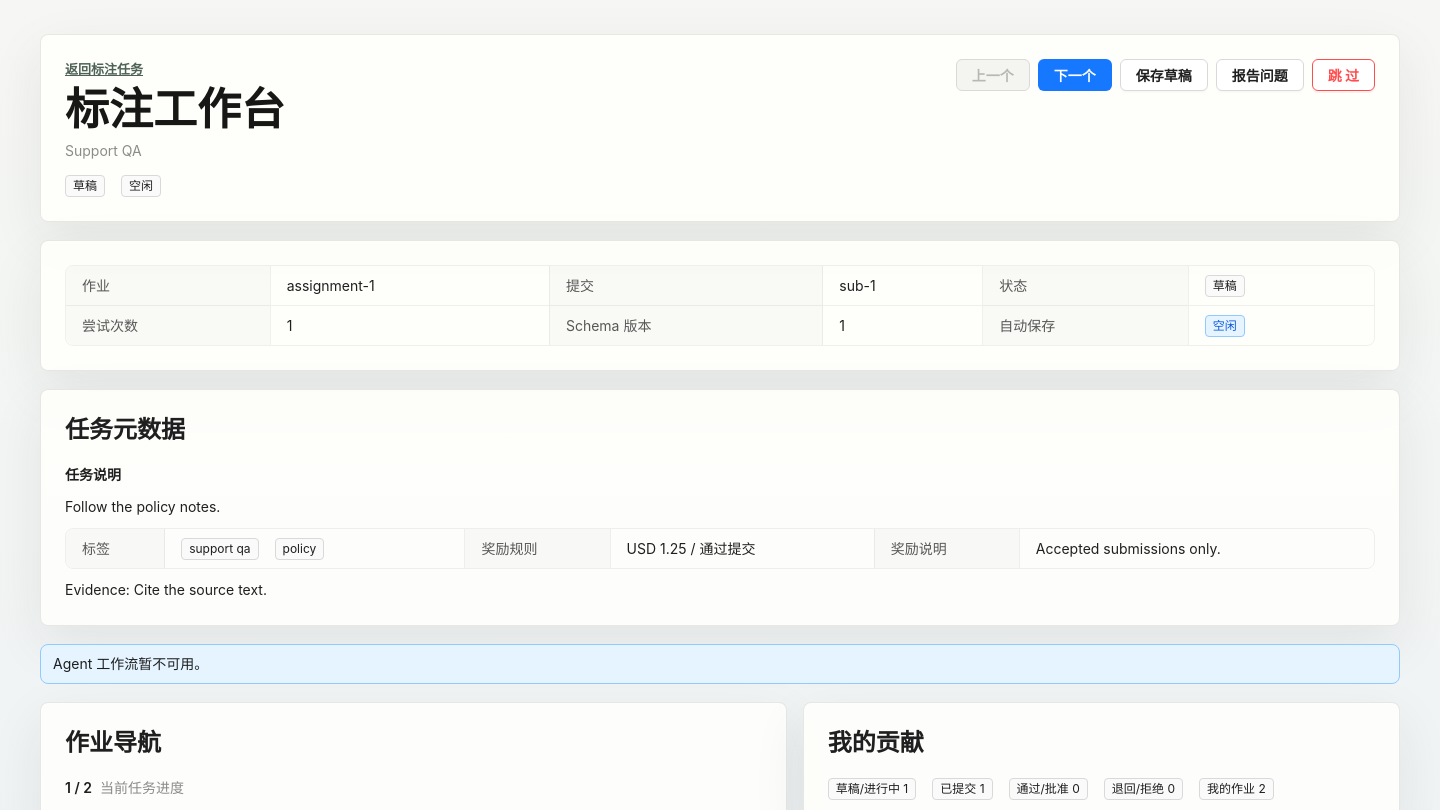
labeler workspace › reports a problem from the modal without submitting the annotation
Step 1. Click the button "报告问题" → (1260, 75), box 1216,59 -> 1304,91
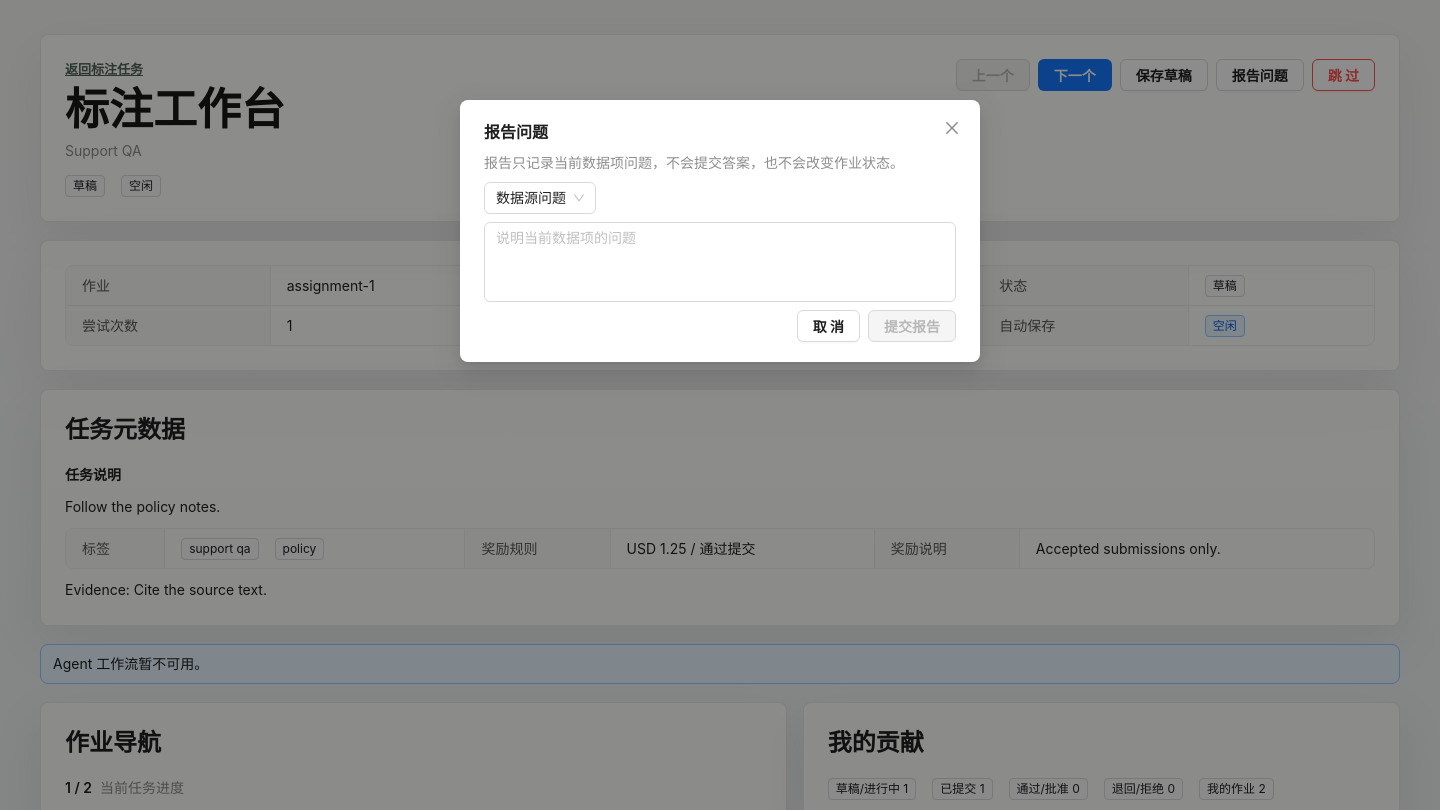
Step 2. Type "The source text is truncated." into the text box named "问题说明" → (720, 262), box 484,222 -> 956,302
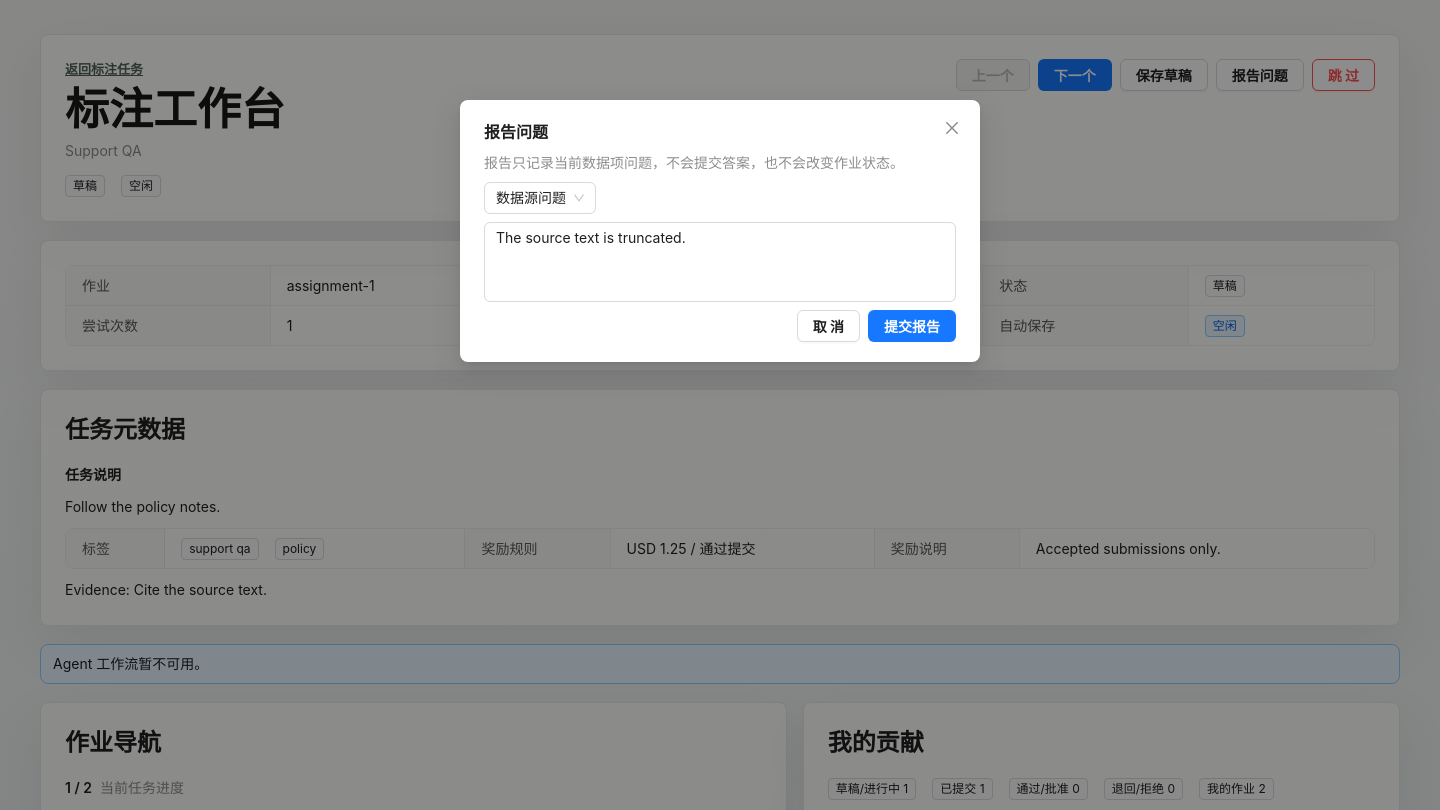
Step 3. Click the button "提交报告" → (912, 326), box 868,310 -> 956,342
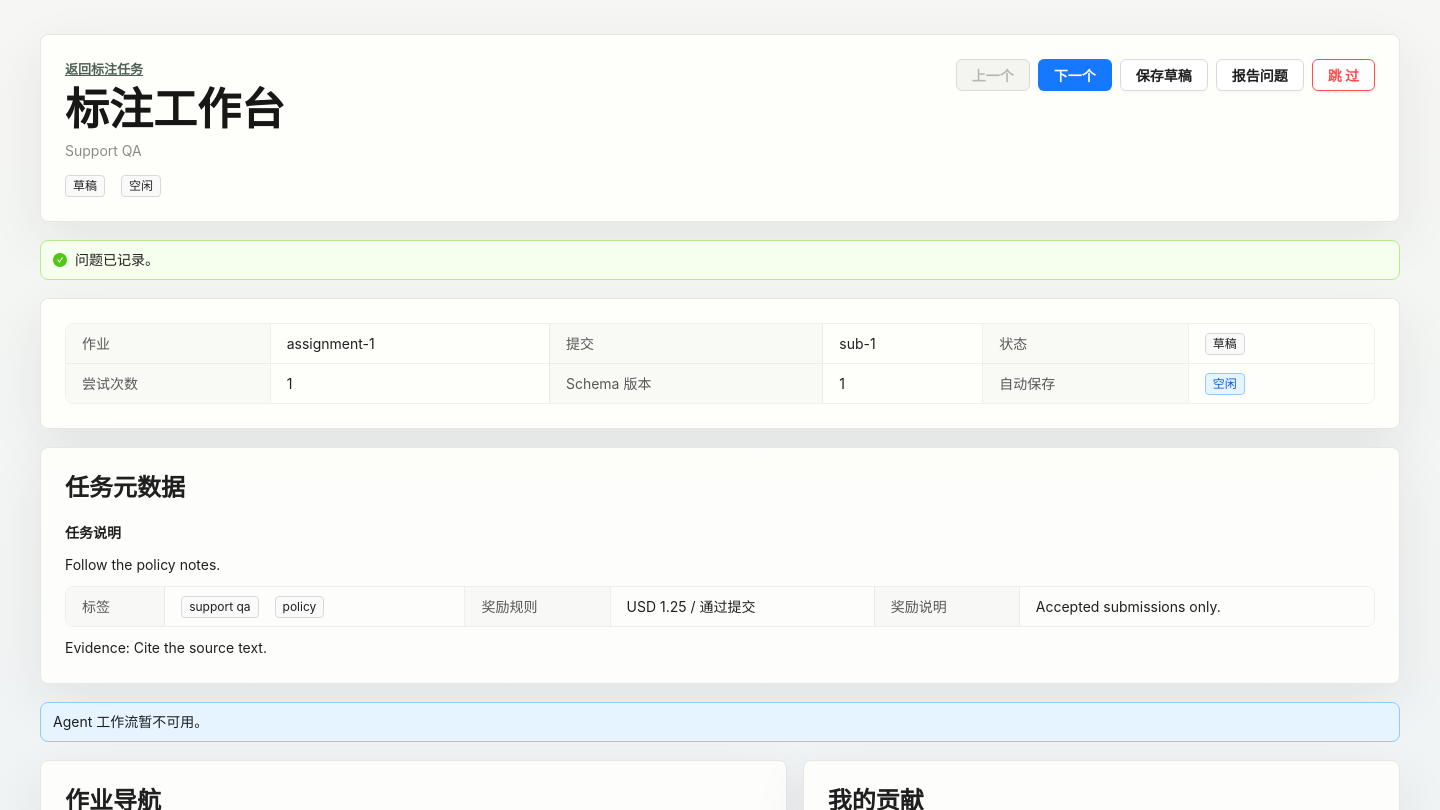
Now the text "问题已记录。" is shown, box 75,251 -> 159,268
